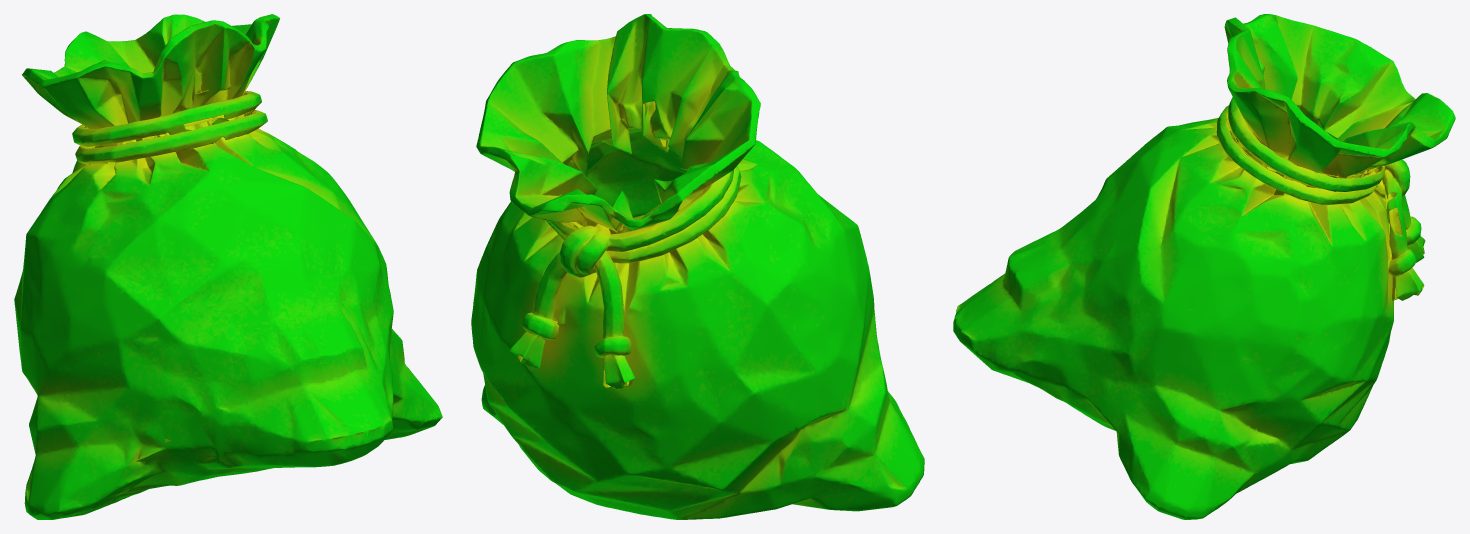
File: tombspider.fbx
3 renders of one model, left to right at view 1: azimuth 30°, elevation 25°; view 2: azimuth 150°, elevation 25°; view 3: azimuth 270°, elevation 25°, orthographic. The views are drawn at different scales.
Parts seen in each view (by area): view 1: geometry_0; view 2: geometry_0; view 3: geometry_0.
Part boxes in pixels (x1,y1,x2,y2): geometry_0: (14, 14, 442, 519); geometry_0: (471, 14, 924, 519); geometry_0: (953, 14, 1455, 519).
Size of the model in its own units: 171 by 180 by 197.
